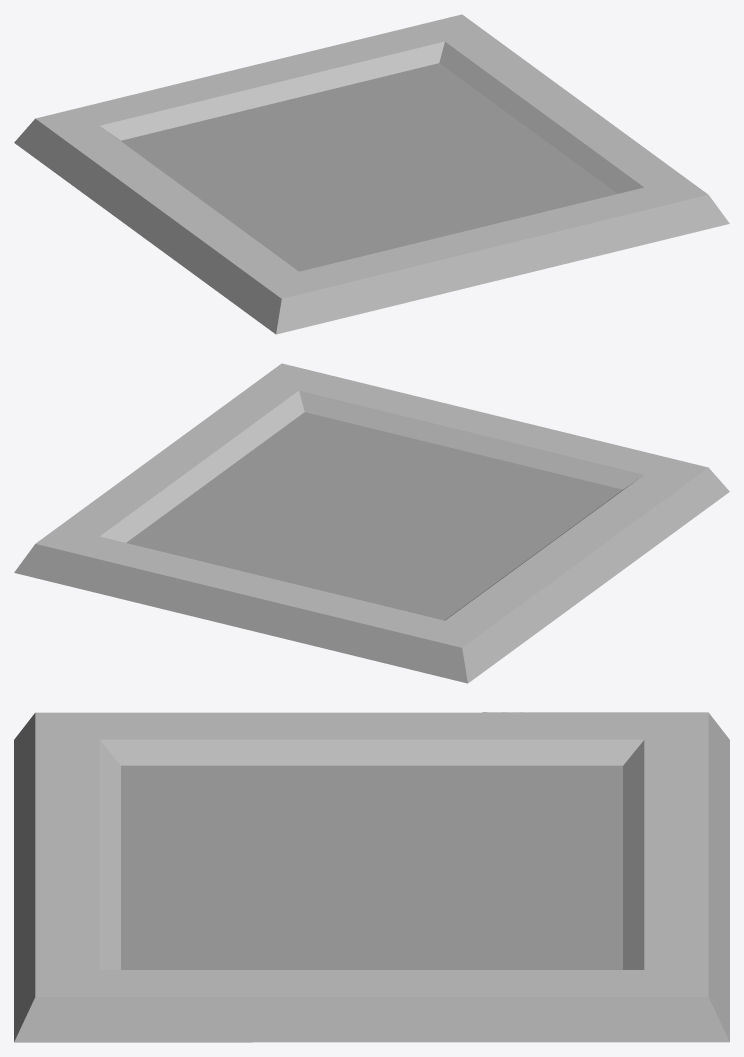
File: platform_006.fbx
The picture shows the model from 3 angles, top to bottom: view 1: azimuth 30°, elevation 25°; view 2: azimuth 150°, elevation 25°; view 3: azimuth 270°, elevation 25°; orthographic projection. The views are drawn at different scales.
Parts seen in each view (by area): view 1: platform_006; view 2: platform_006; view 3: platform_006.
Boxes of the visible parts, x1,y1,x2,y2 form: platform_006: (14,14,729,334); platform_006: (14,363,729,683); platform_006: (14,712,729,1042).
Bounding box in the file's own units: 701 × 701 × 39.37.
